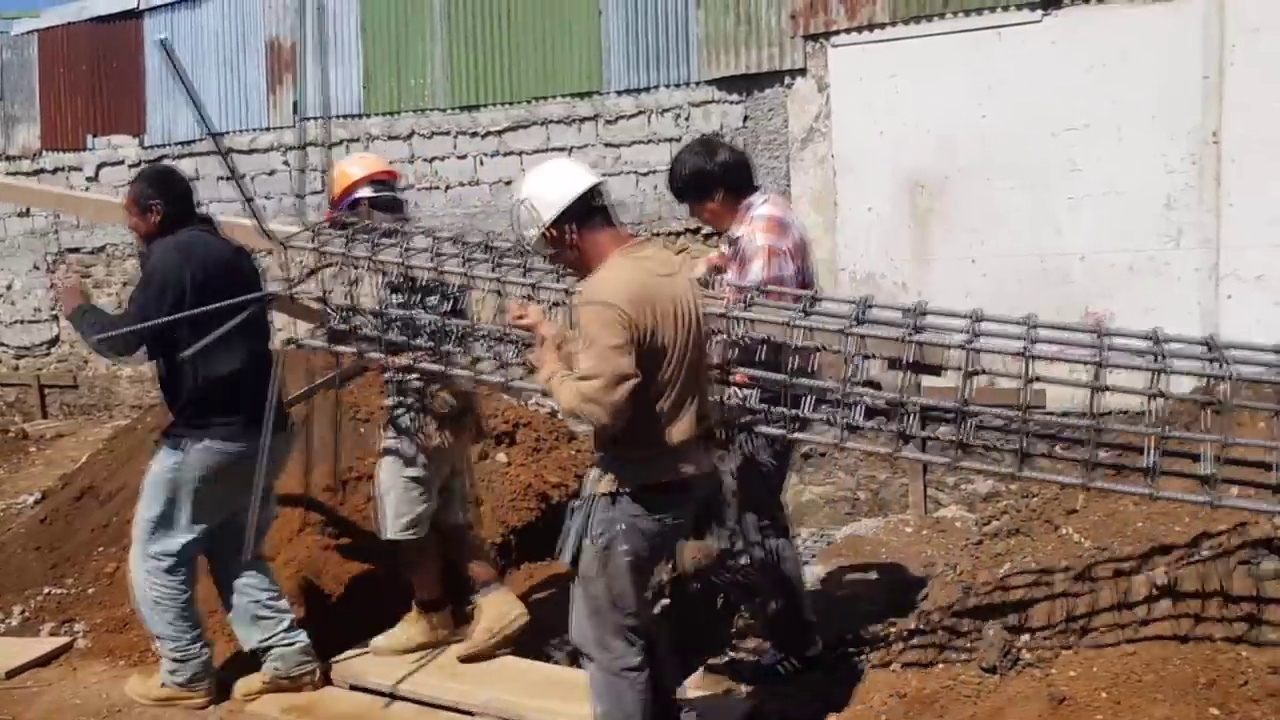helmet: (510, 155, 611, 251), (322, 152, 400, 211)
helmet-off: (668, 133, 755, 244), (120, 164, 191, 249)
helmet-on: (511, 156, 645, 284), (324, 142, 412, 252)
person: (61, 158, 319, 706), (515, 138, 723, 706), (336, 134, 528, 656), (662, 131, 831, 692)
